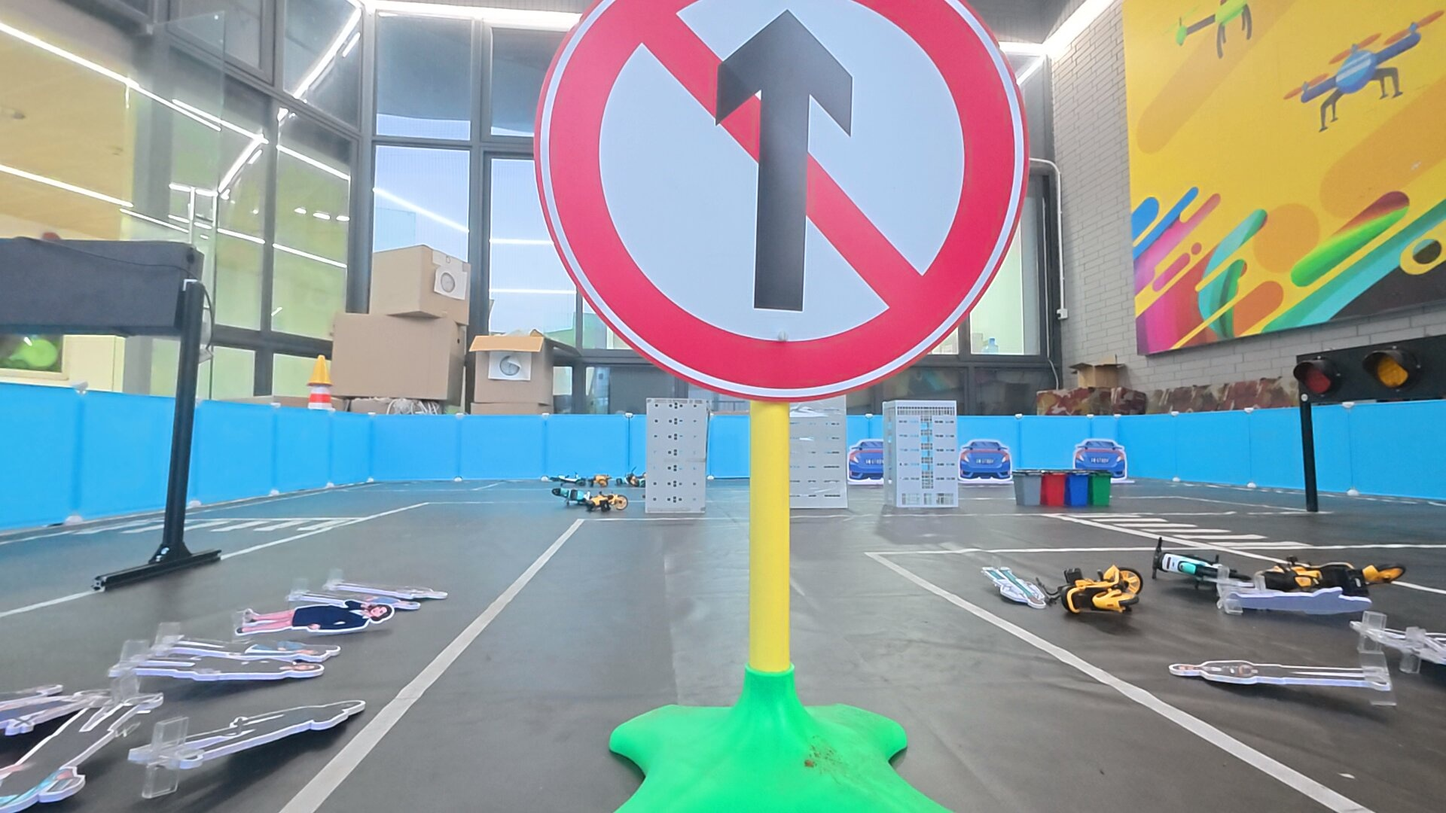obstacle: (535, 0, 1028, 403)
